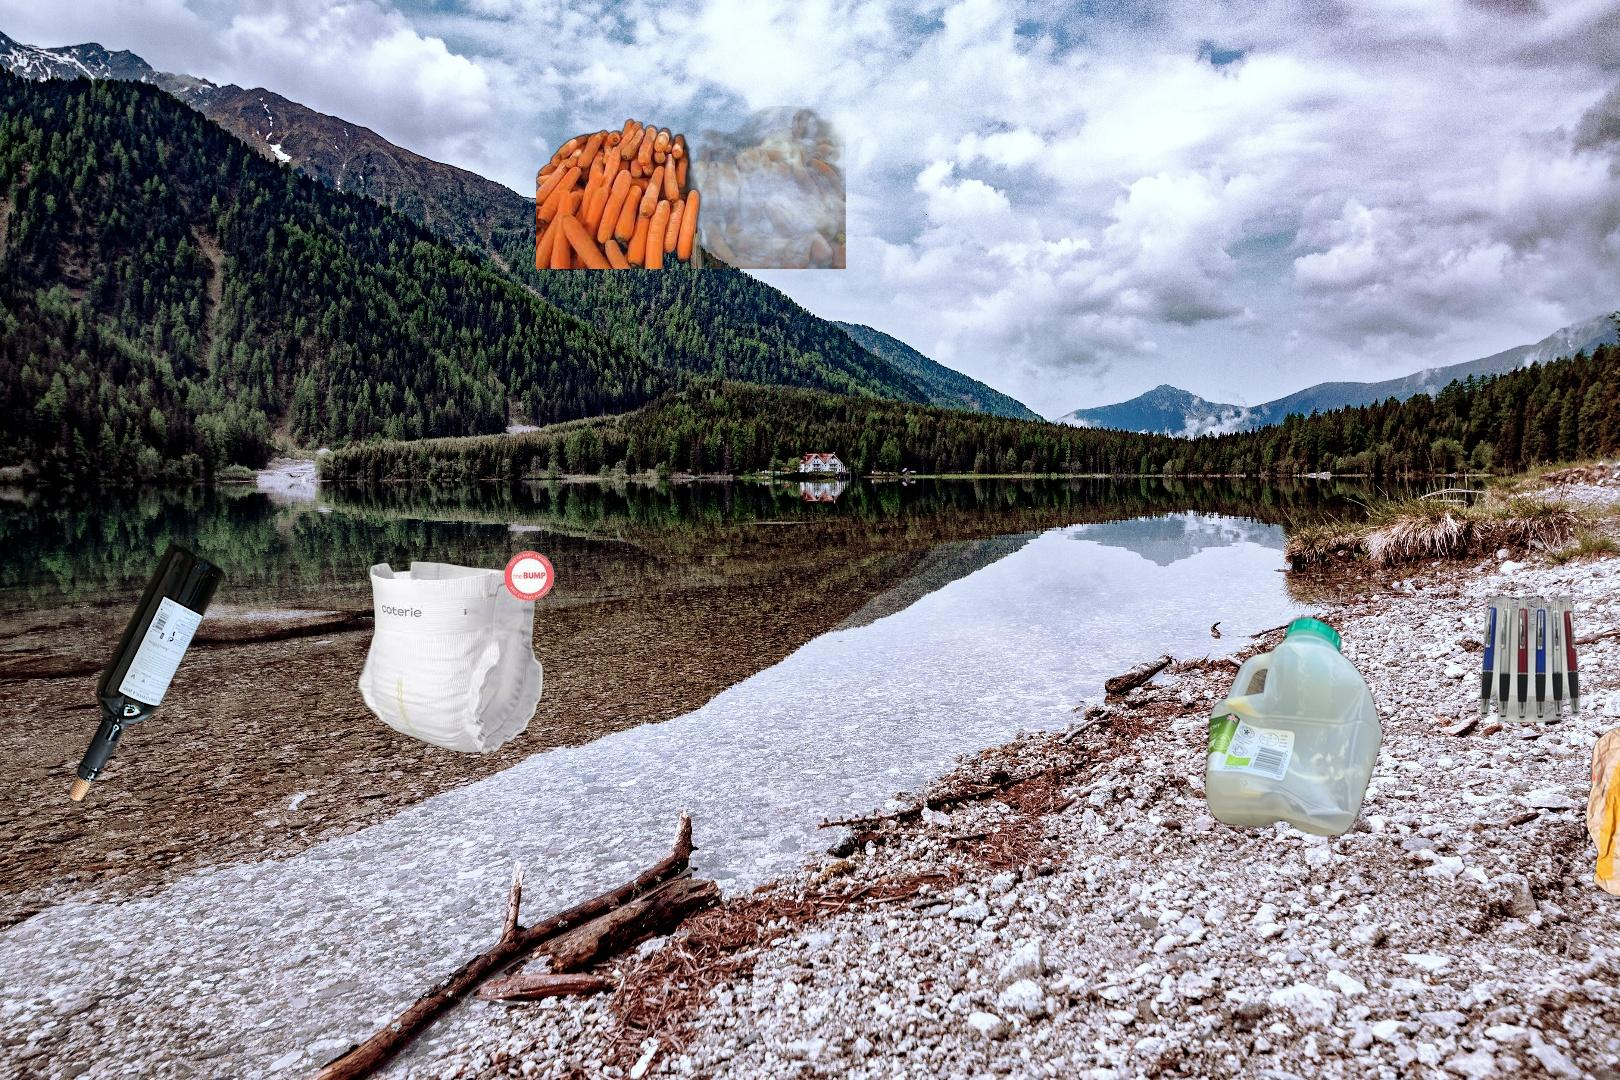biological: (536, 106, 846, 269)
glass: (64, 538, 228, 808)
paper-bag: (1583, 626, 1620, 900)
penholder: (1472, 586, 1606, 727)
plastic-bottles: (1201, 611, 1389, 843)
trash: (352, 548, 557, 757)
